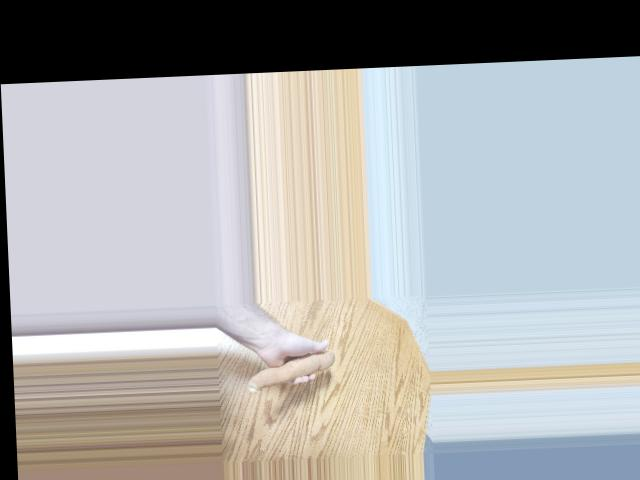sweet_potato: (246, 351, 337, 378)
